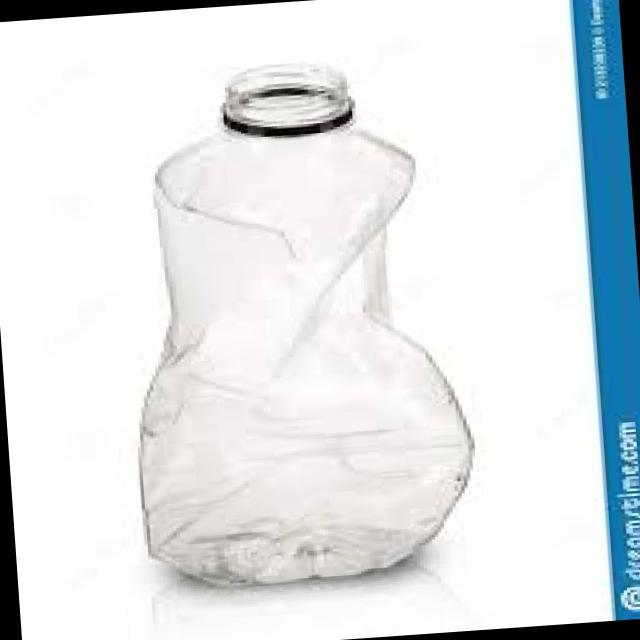defected: (75, 35, 516, 608)
